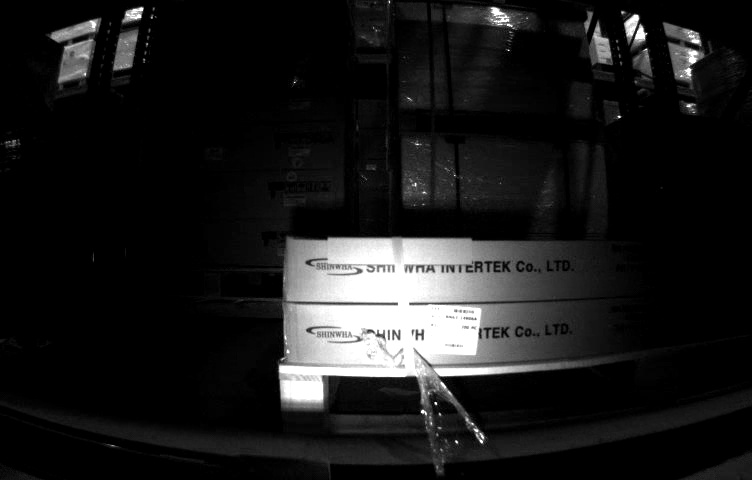True Barcode: (426, 303, 478, 355)
